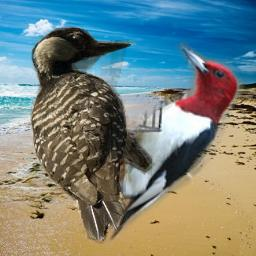Woodpecker: (86, 40, 250, 247), (30, 25, 158, 247)
